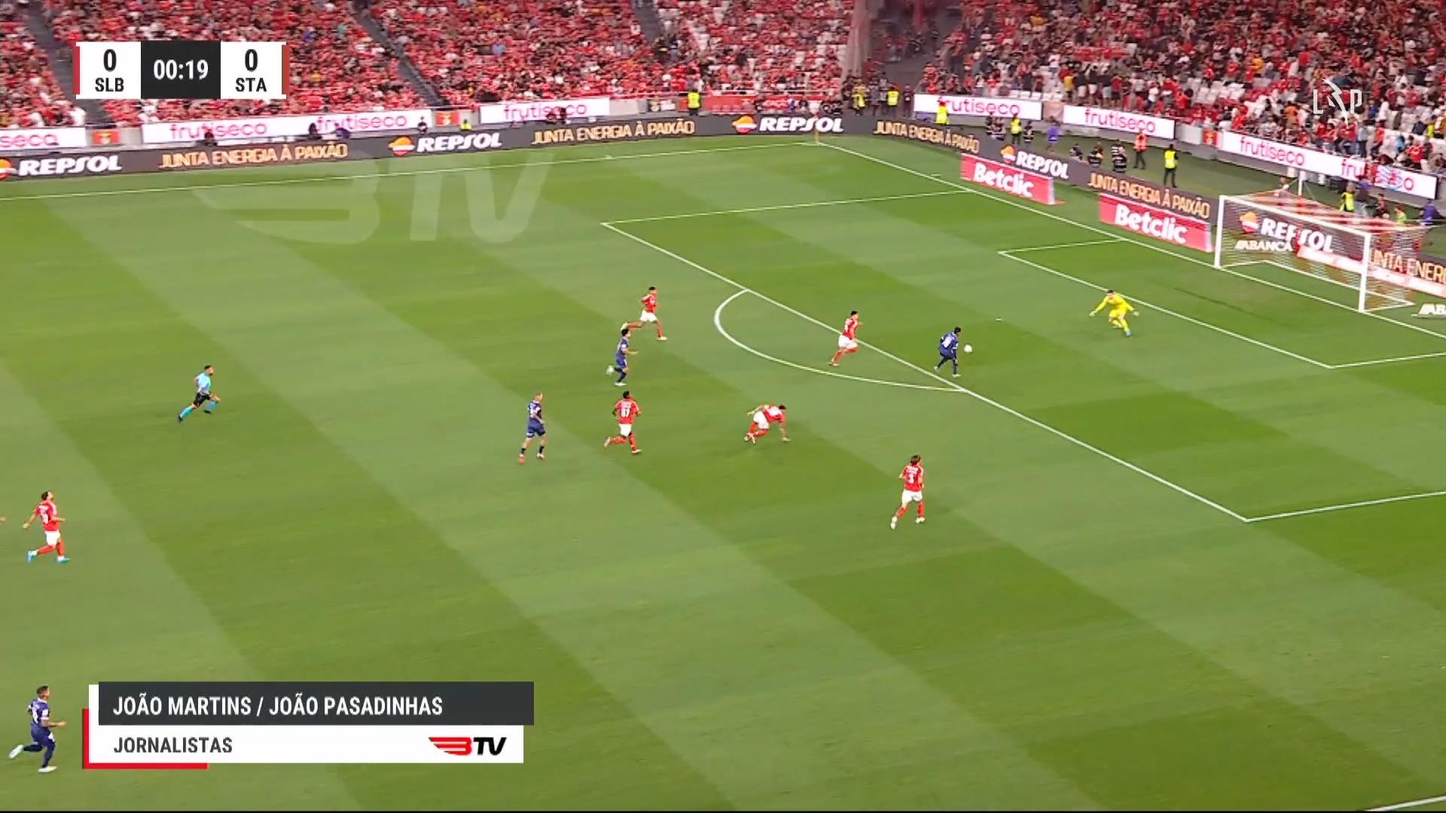ball: (962, 344, 972, 353)
goalkeeper: (1088, 288, 1139, 337)
player: (8, 684, 66, 772), (20, 489, 70, 564), (888, 452, 926, 530), (602, 390, 642, 455), (626, 285, 667, 341), (517, 391, 547, 464), (606, 321, 639, 387), (932, 325, 972, 378), (828, 309, 863, 367), (743, 403, 791, 444)
referee: (175, 364, 221, 423)
